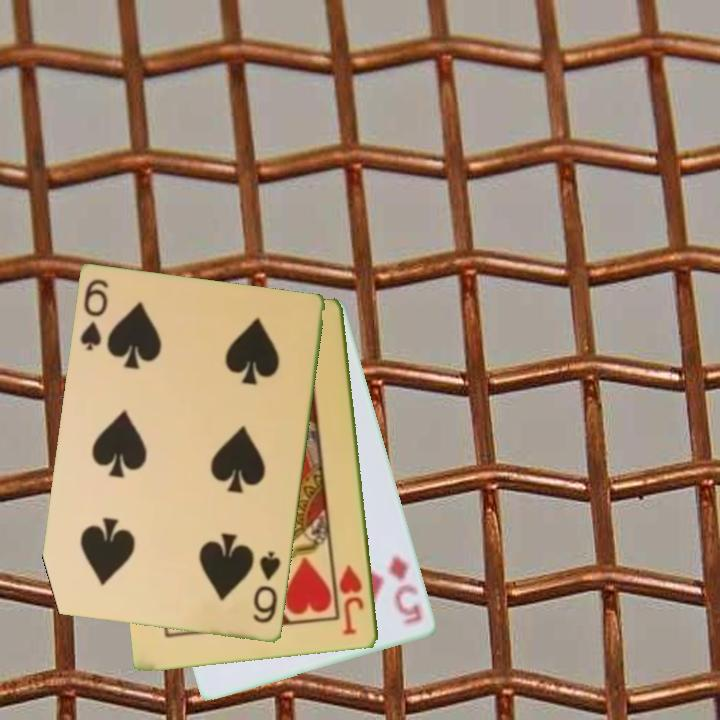5d: (385, 551, 426, 628)
6s: (77, 276, 112, 354), (250, 548, 284, 627)
Jh: (336, 562, 367, 638)
